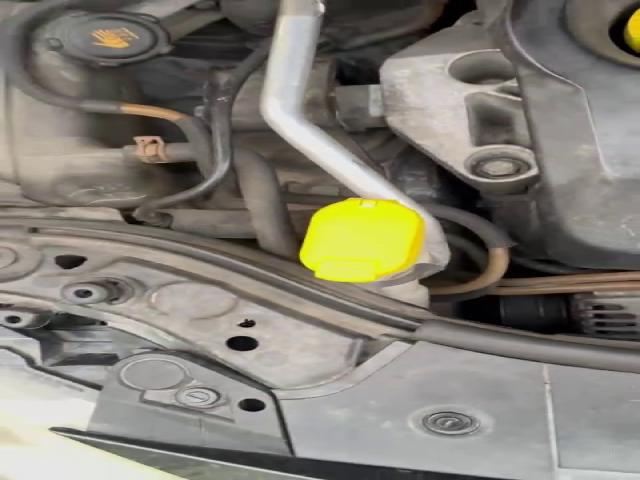antifreeze_tank: (4, 87, 177, 208), (26, 10, 170, 103)
